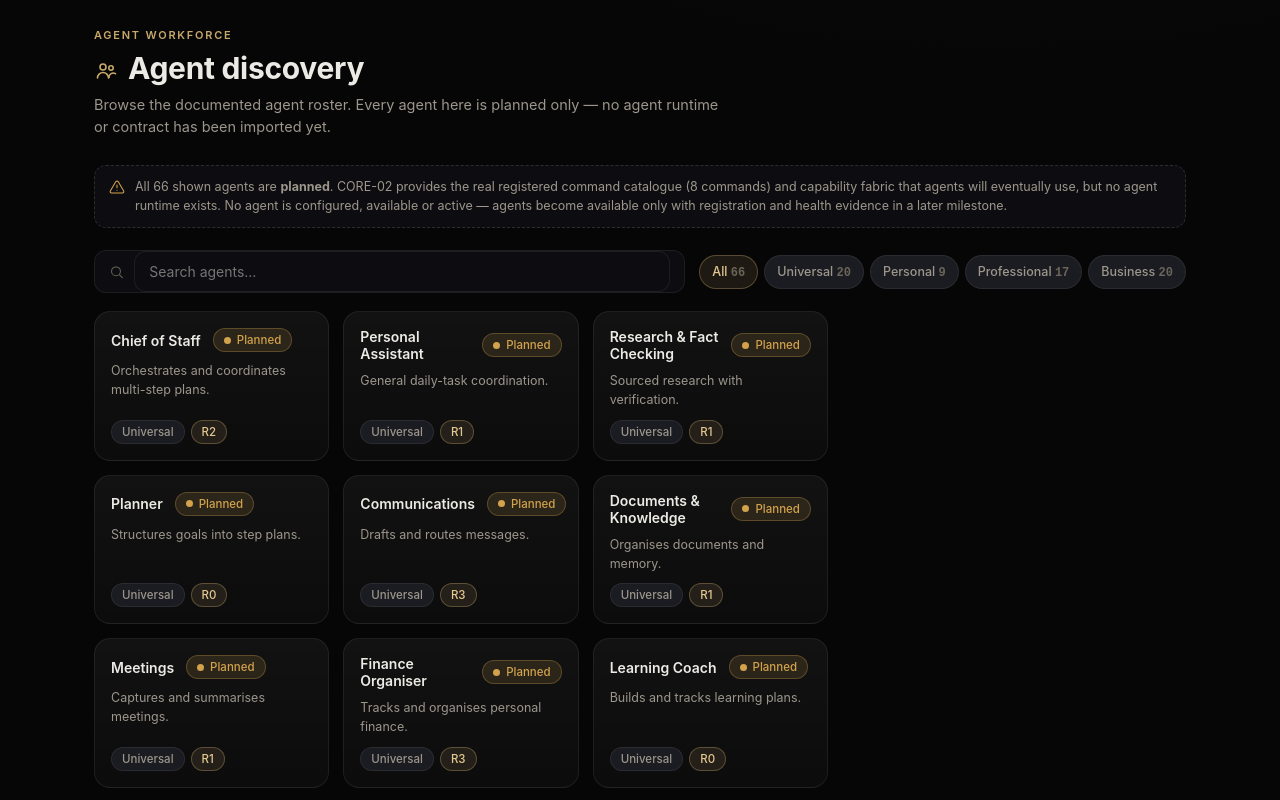
Test: Agent Workforce › filters agents by search
Type "Accountant" into the field labelled "Search agents".
click(402, 272); type("Accountant")  # box [134,251,670,292]
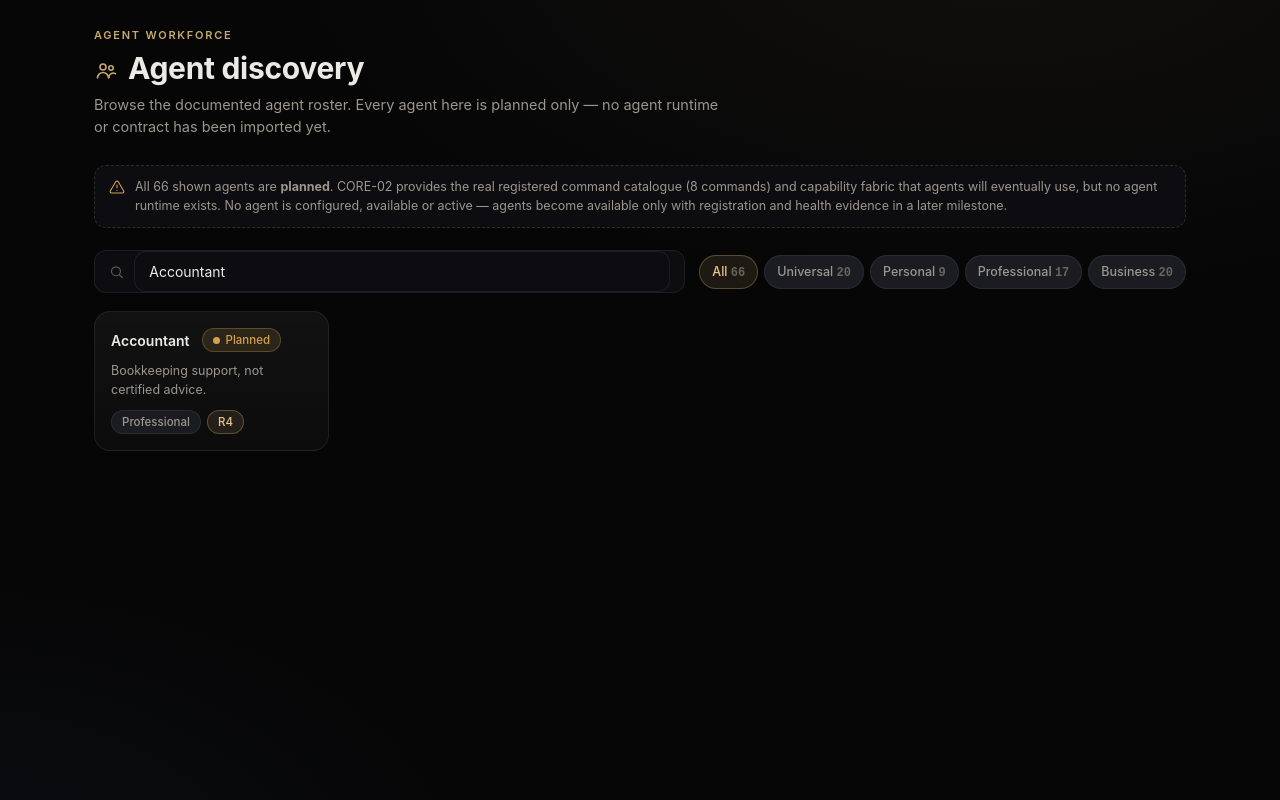
Expected: the text "Accountant" is shown, [111,332,190,349]
Result: the button "Chief of Staff" is gone
